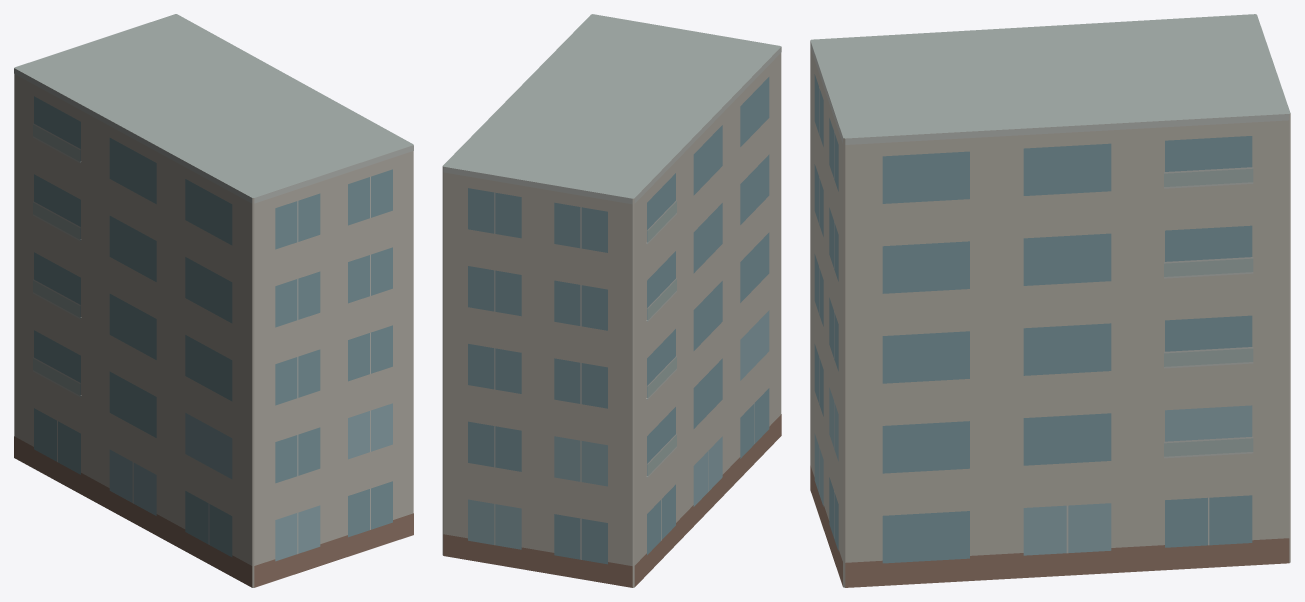
Rendered from survey-upis-32575247.glb.
3 views of the same model, side by side, from view 1: azimuth 30°, elevation 25°; view 2: azimuth 150°, elevation 25°; view 3: azimuth 270°, elevation 25° (orthographic). The views are drawn at different scales.
Visible parts, largest first — view 1: survey-upis-32575247.tmp; view 2: survey-upis-32575247.tmp; view 3: survey-upis-32575247.tmp.
Boxes of the visible parts, box(x1,y1,x2,y2) form: survey-upis-32575247.tmp: box(14, 14, 413, 587); survey-upis-32575247.tmp: box(442, 14, 781, 587); survey-upis-32575247.tmp: box(810, 14, 1290, 587).
Bounding box in the file's own units: 9.96 × 16.74 × 16.22.
